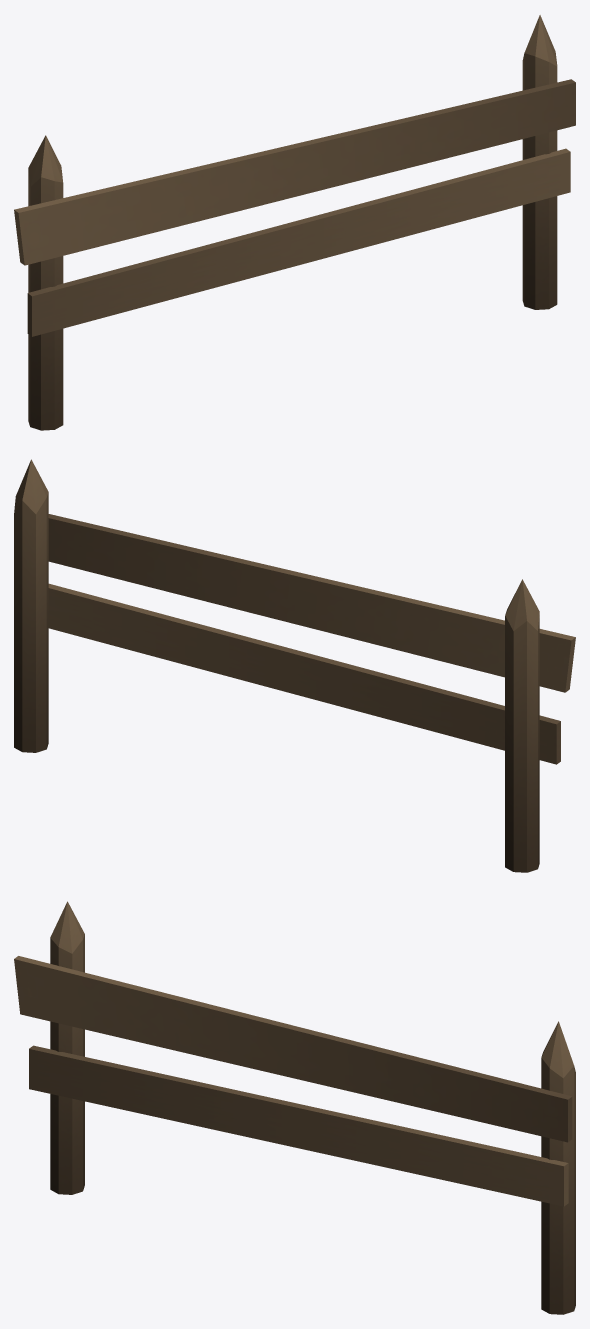
Rendered from ZLP_Build_D_22.FBX.
3 views of the same model, one above another, from view 1: azimuth 30°, elevation 25°; view 2: azimuth 150°, elevation 25°; view 3: azimuth 330°, elevation 25° (orthographic).
Parts seen in each view (by area): view 1: ZLP_Build_D_22; view 2: ZLP_Build_D_22; view 3: ZLP_Build_D_22.
Boxes of the visible parts, <box> form: ZLP_Build_D_22: <box>14,15,575,430</box>; ZLP_Build_D_22: <box>14,459,575,872</box>; ZLP_Build_D_22: <box>14,901,575,1314</box>.
Bounding box in the file's own units: 161 × 79.38 × 11.13.
